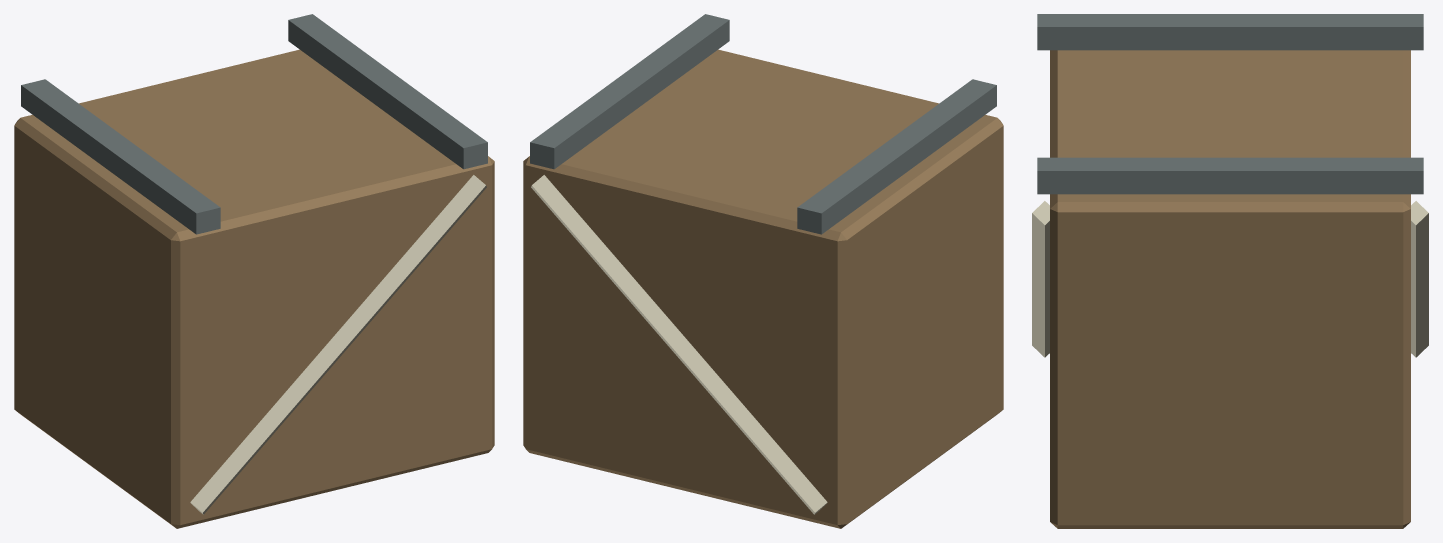
The model's file is crate.glb.
3 views of the same model, side by side, from view 1: azimuth 30°, elevation 25°; view 2: azimuth 150°, elevation 25°; view 3: azimuth 270°, elevation 25° (orthographic). The views are drawn at different scales.
Parts seen in each view (by area): view 1: crate; view 2: crate; view 3: crate.
Boxes of the visible parts, x1=… form: crate: x1=14, y1=14, x2=494, y2=528; crate: x1=523, y1=14, x2=1003, y2=528; crate: x1=1032, y1=14, x2=1428, y2=528.
Size of the model in its own units: 0.8 by 0.755 by 0.77.
